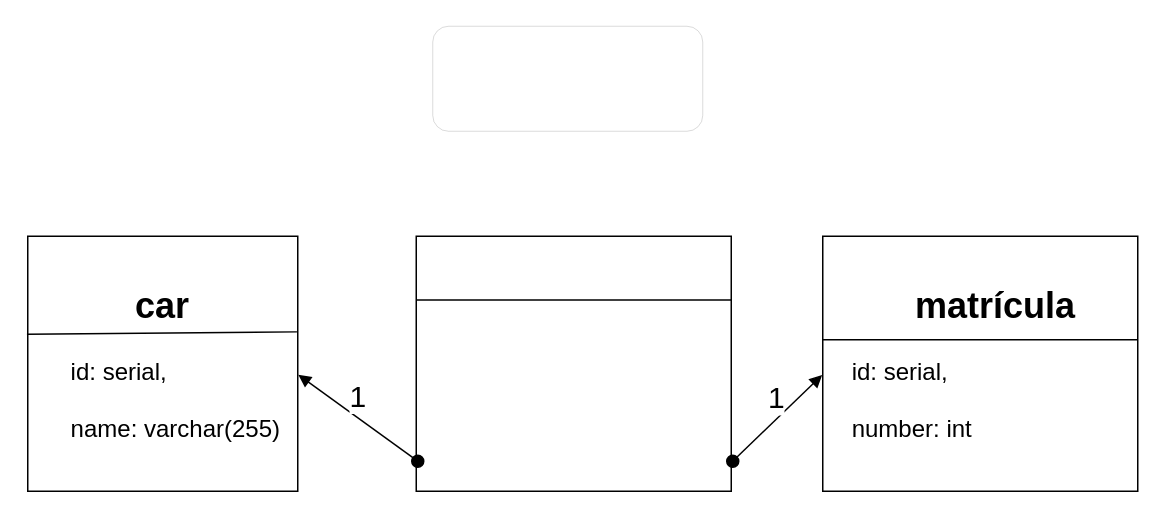
Some shapes in this 1166 by 518 pixel diagram are drawn without their labels. Here are the shapes that lost their labels. From the top down, the box of each, then its label:
(432, 26, 702, 130): one-to-one
(415, 235, 731, 491): car_matrícula id: serial primary key, car_id: int matrícula_id: int
